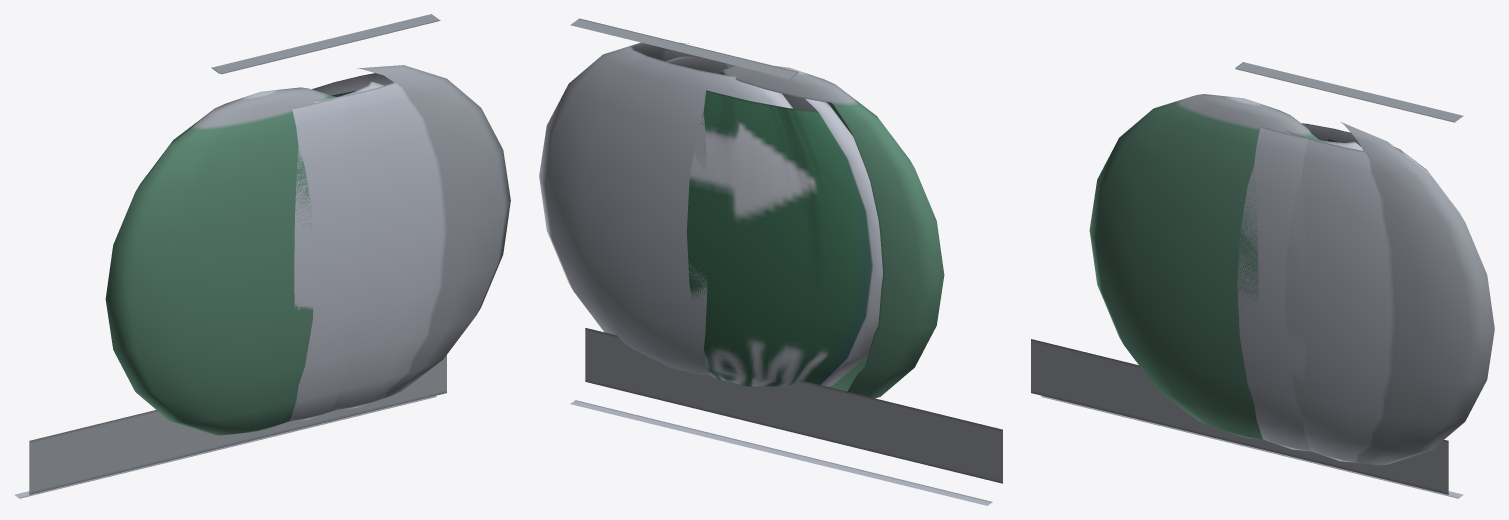
Rendered from section-1.obj.
The picture shows the model from 3 angles, left to right: view 1: azimuth 30°, elevation 25°; view 2: azimuth 150°, elevation 25°; view 3: azimuth 330°, elevation 25°; orthographic projection.
Size of the model in its own units: 1.1 by 0.8398 by 0.1793.
